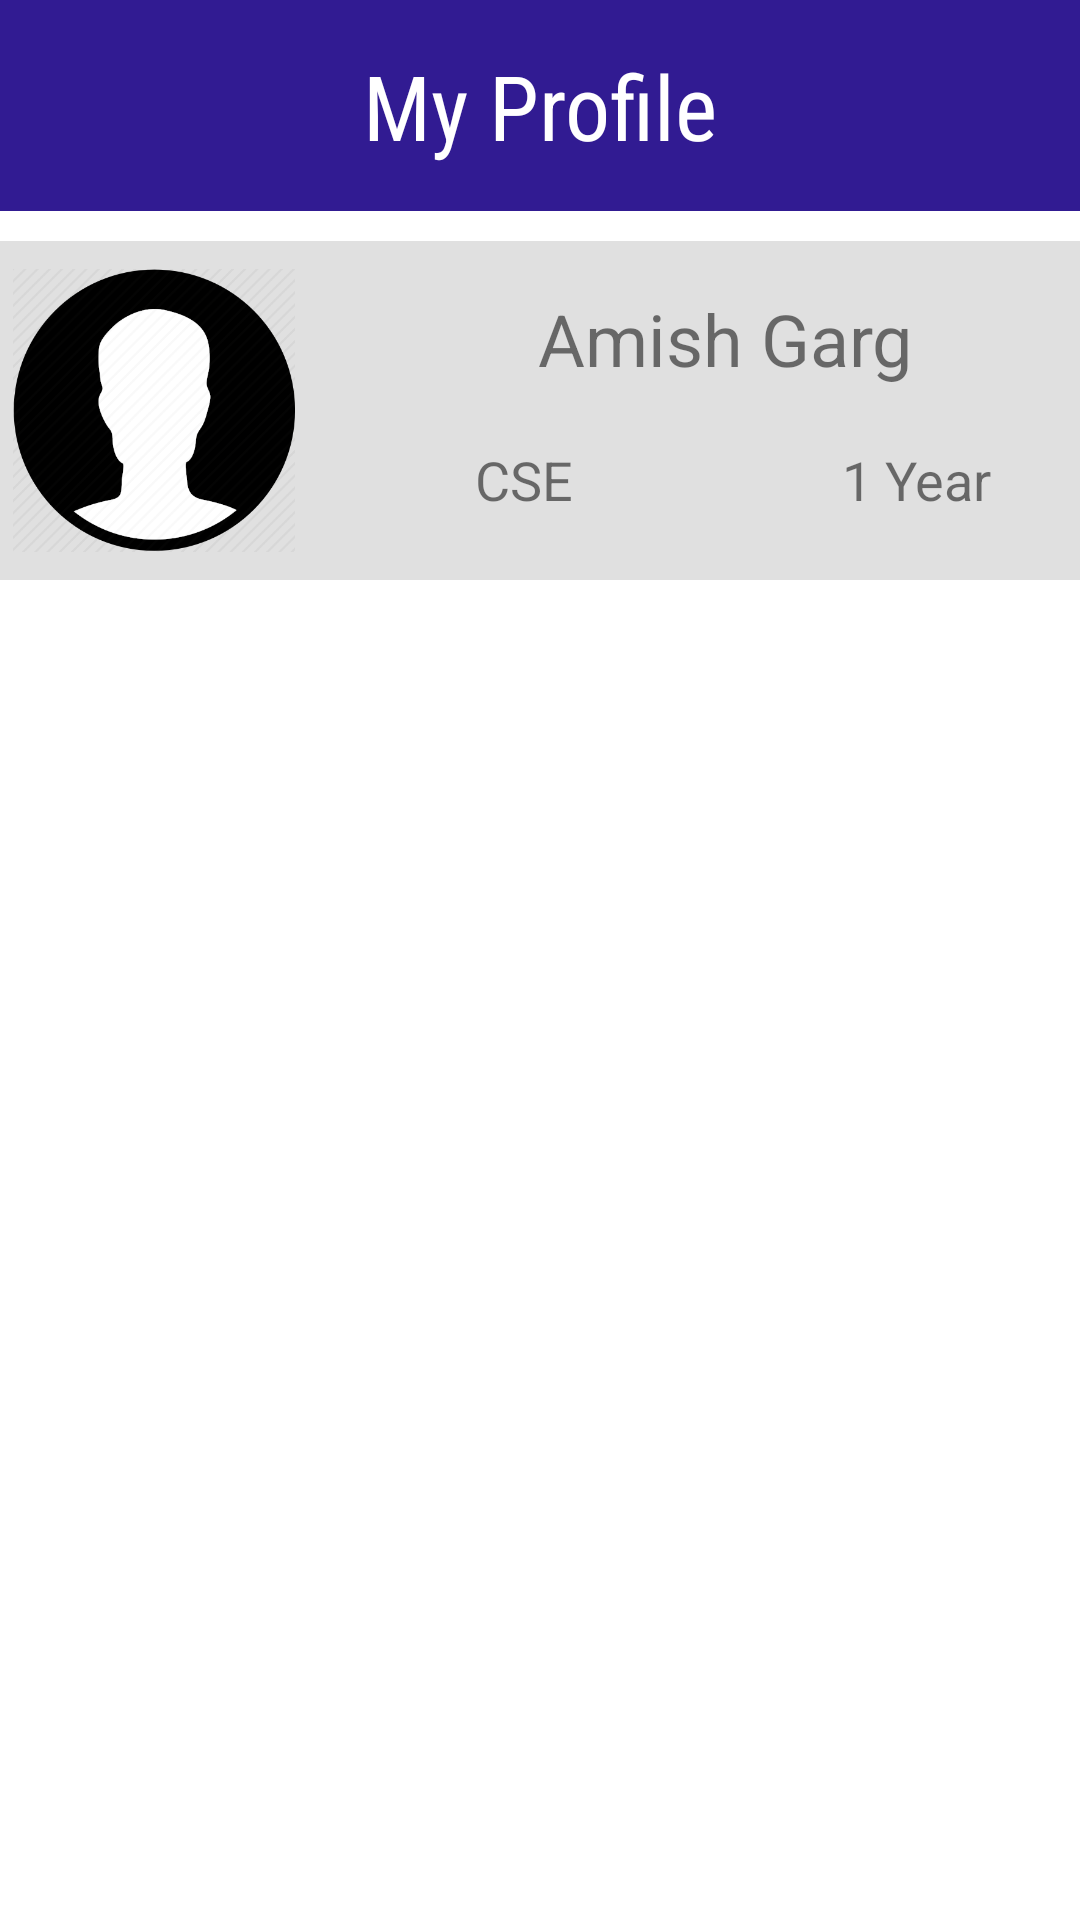

Point at icon controls on the screen. Image size 1080px×1920px, points as [x,y].
user: [154,410]
